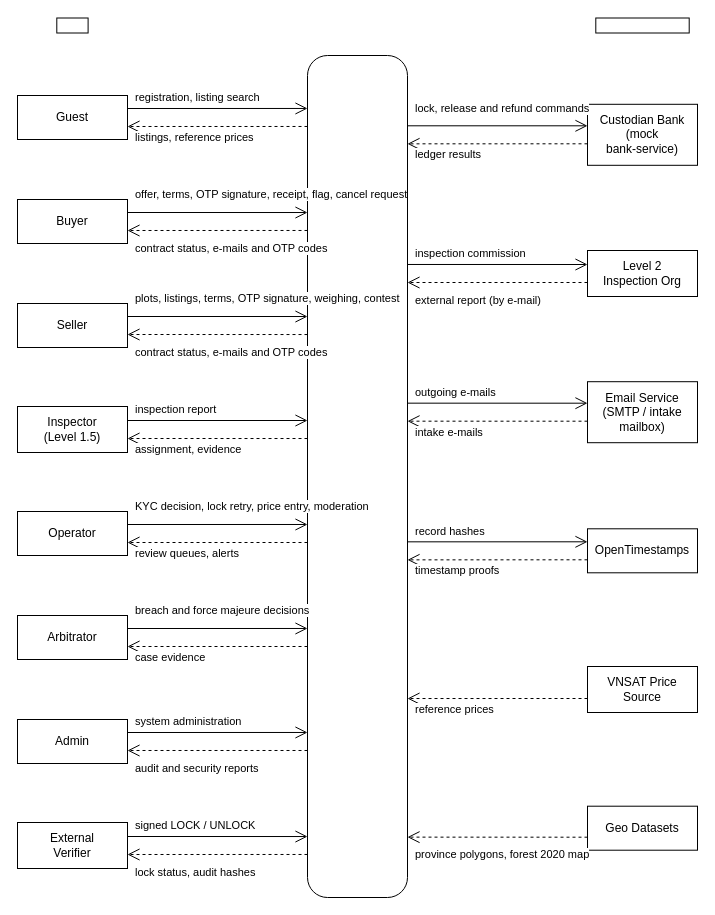
Some shapes in this 715 by 915 pixel diagram are drawn without their labels. The centre of each missing label's shape, as x and y in pixels:
"0 AgriContract B2B Agricultural Contract Platform" belongs at (357,476).
"External Systems" belongs at (642,25).
"Users" belongs at (72,25).
